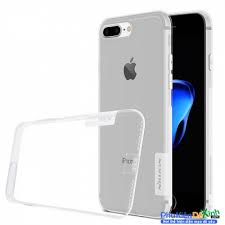iphone: (96, 6, 209, 223)
iphone8: (98, 8, 211, 225)
